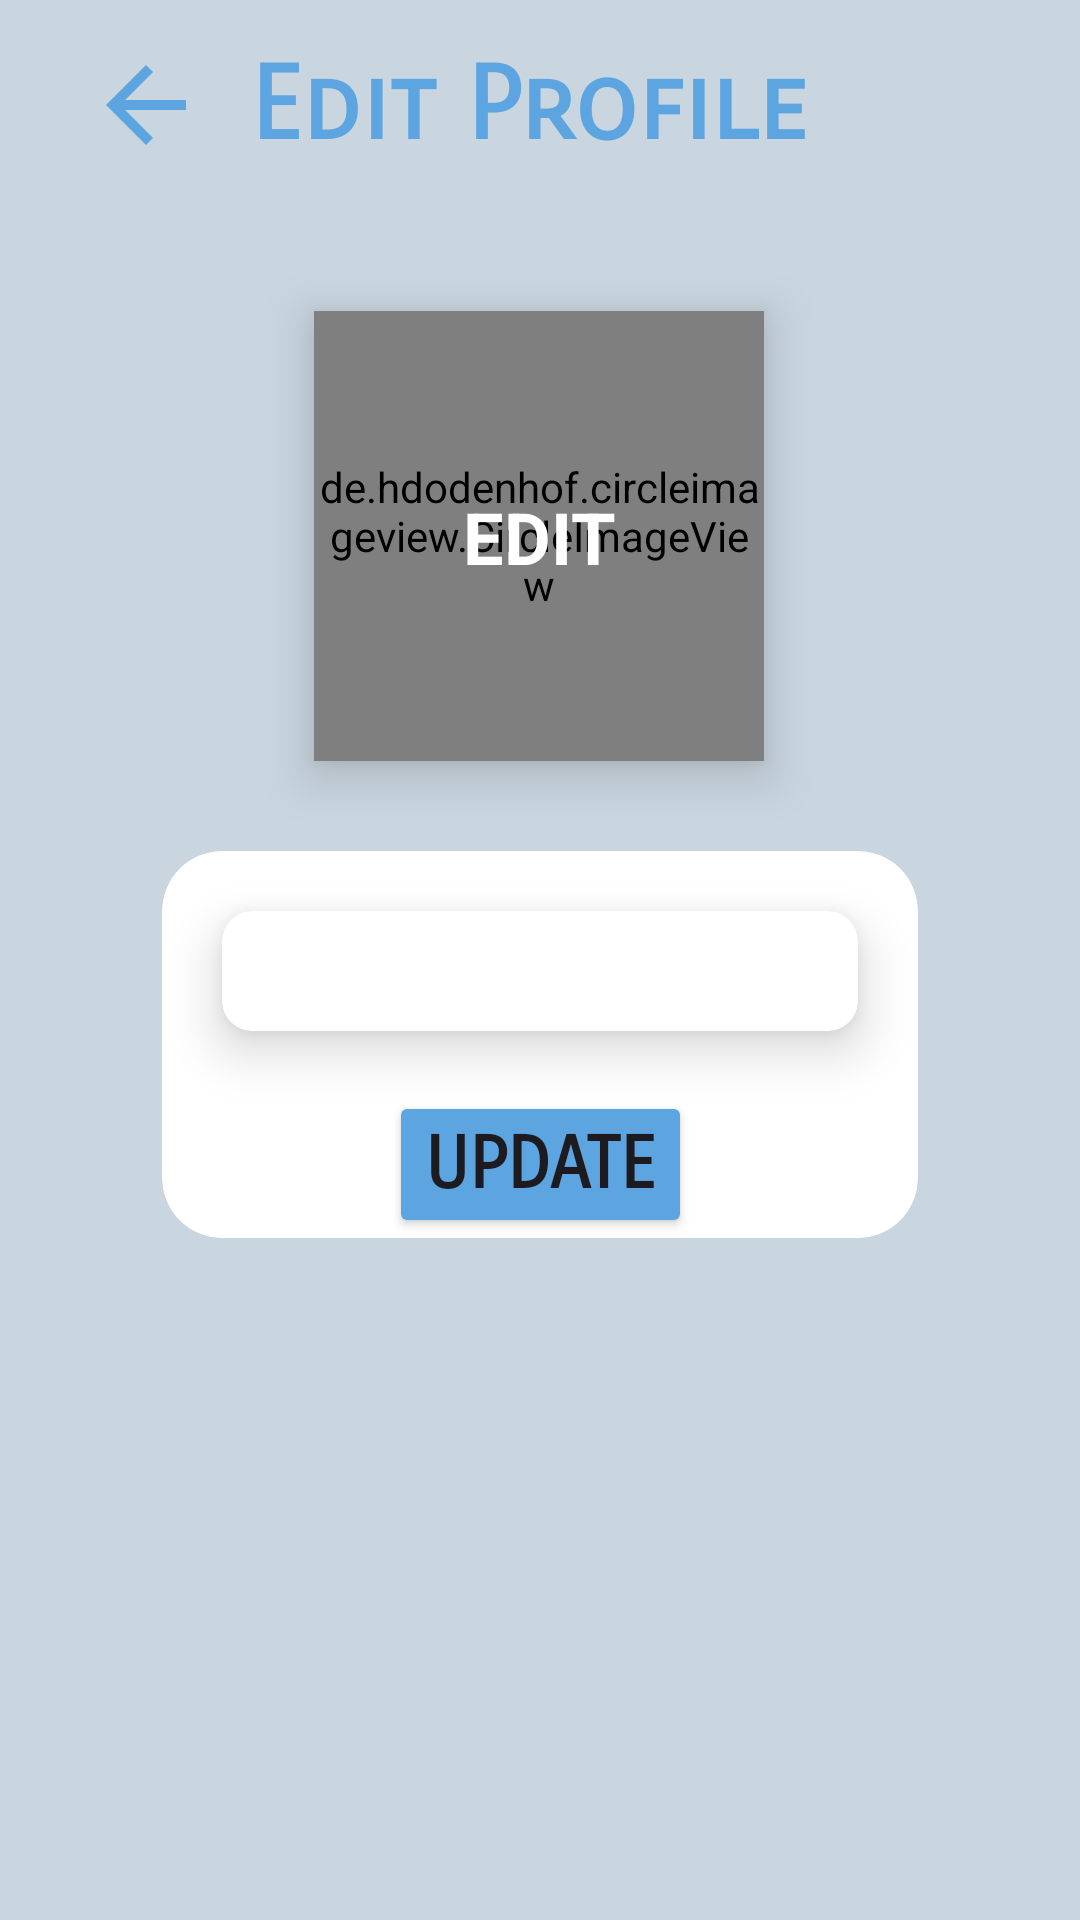

Locate icon controls on the screen. Image size 1080*1920, boxes as (x1, y1, x2, y2).
back: (106, 65, 186, 145)
